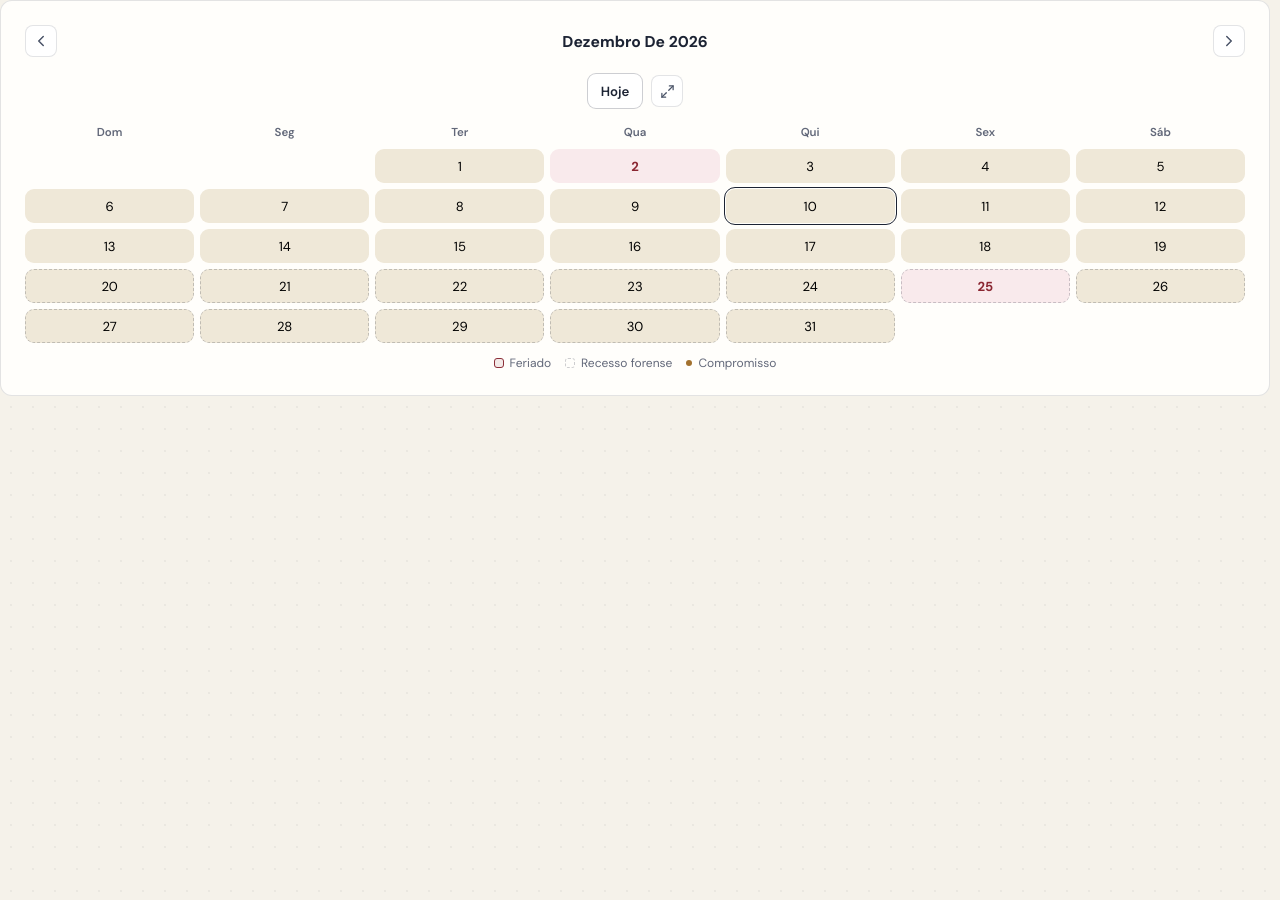
it: MiniCalendar › marca o feriado e mostra o nome ao clicar no dia
Step 1. Click the button named "2. Feriado local" → (635, 166), box [550, 149, 720, 183]
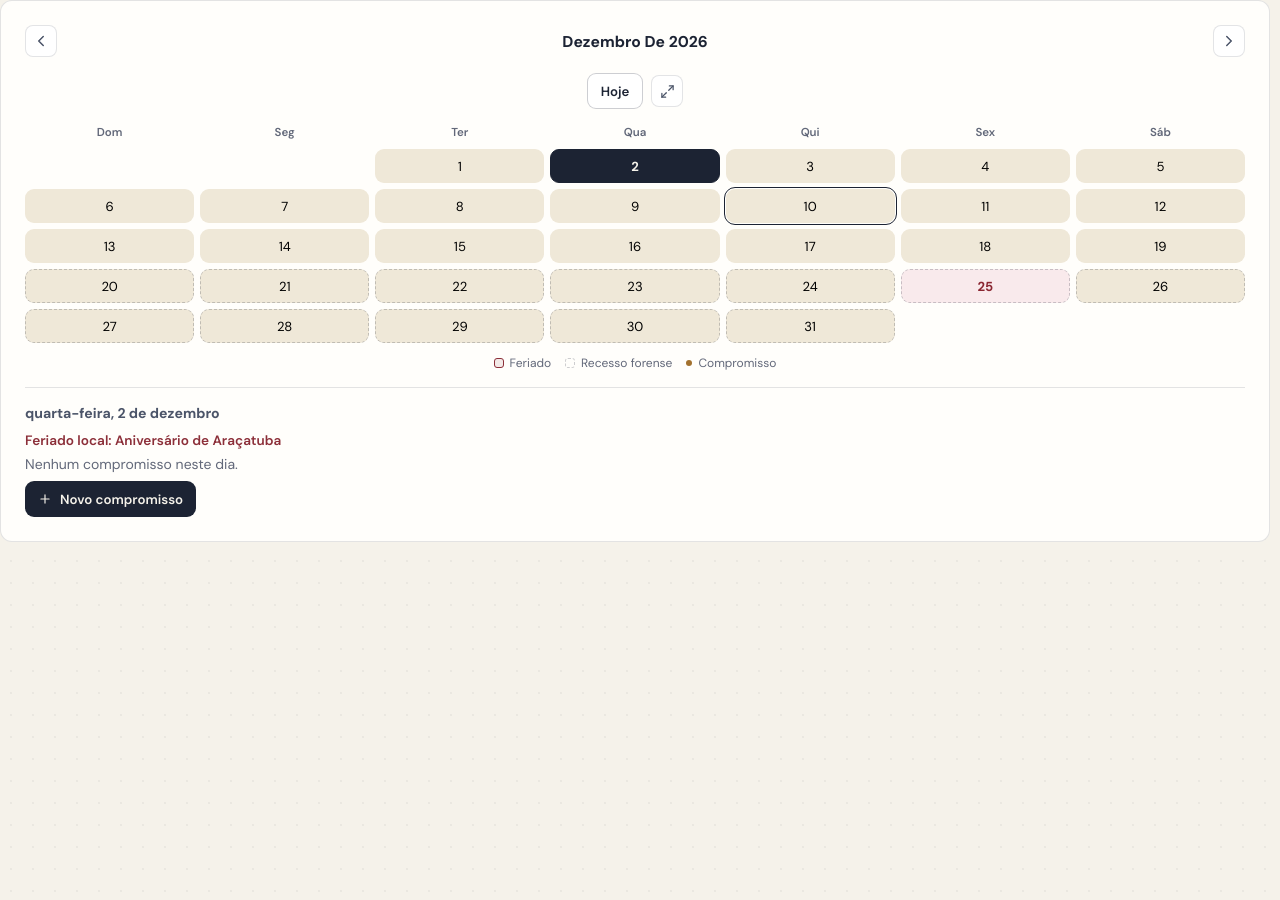
Result: the text "Feriado local: Aniversário de Araçatuba" is shown at [25, 432, 281, 449]
